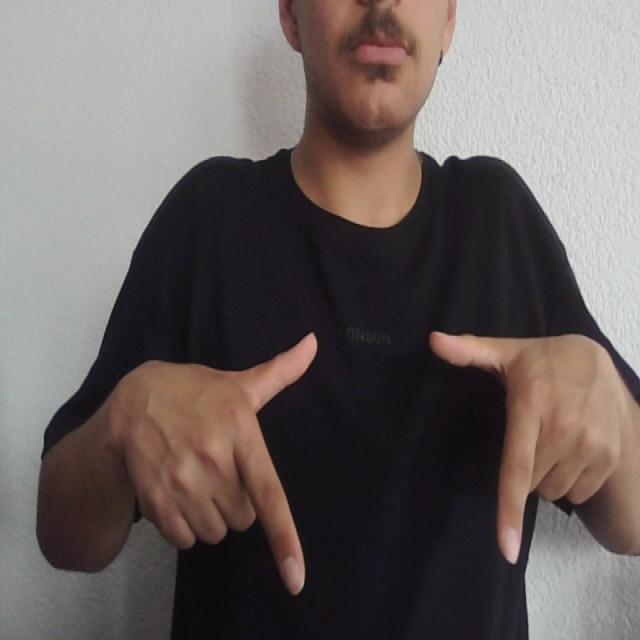Nerede: (218, 322, 545, 604)
